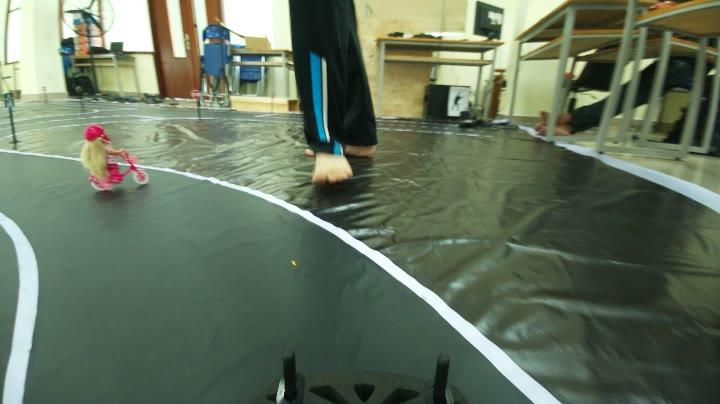pedestrian: (70, 125, 156, 194)
